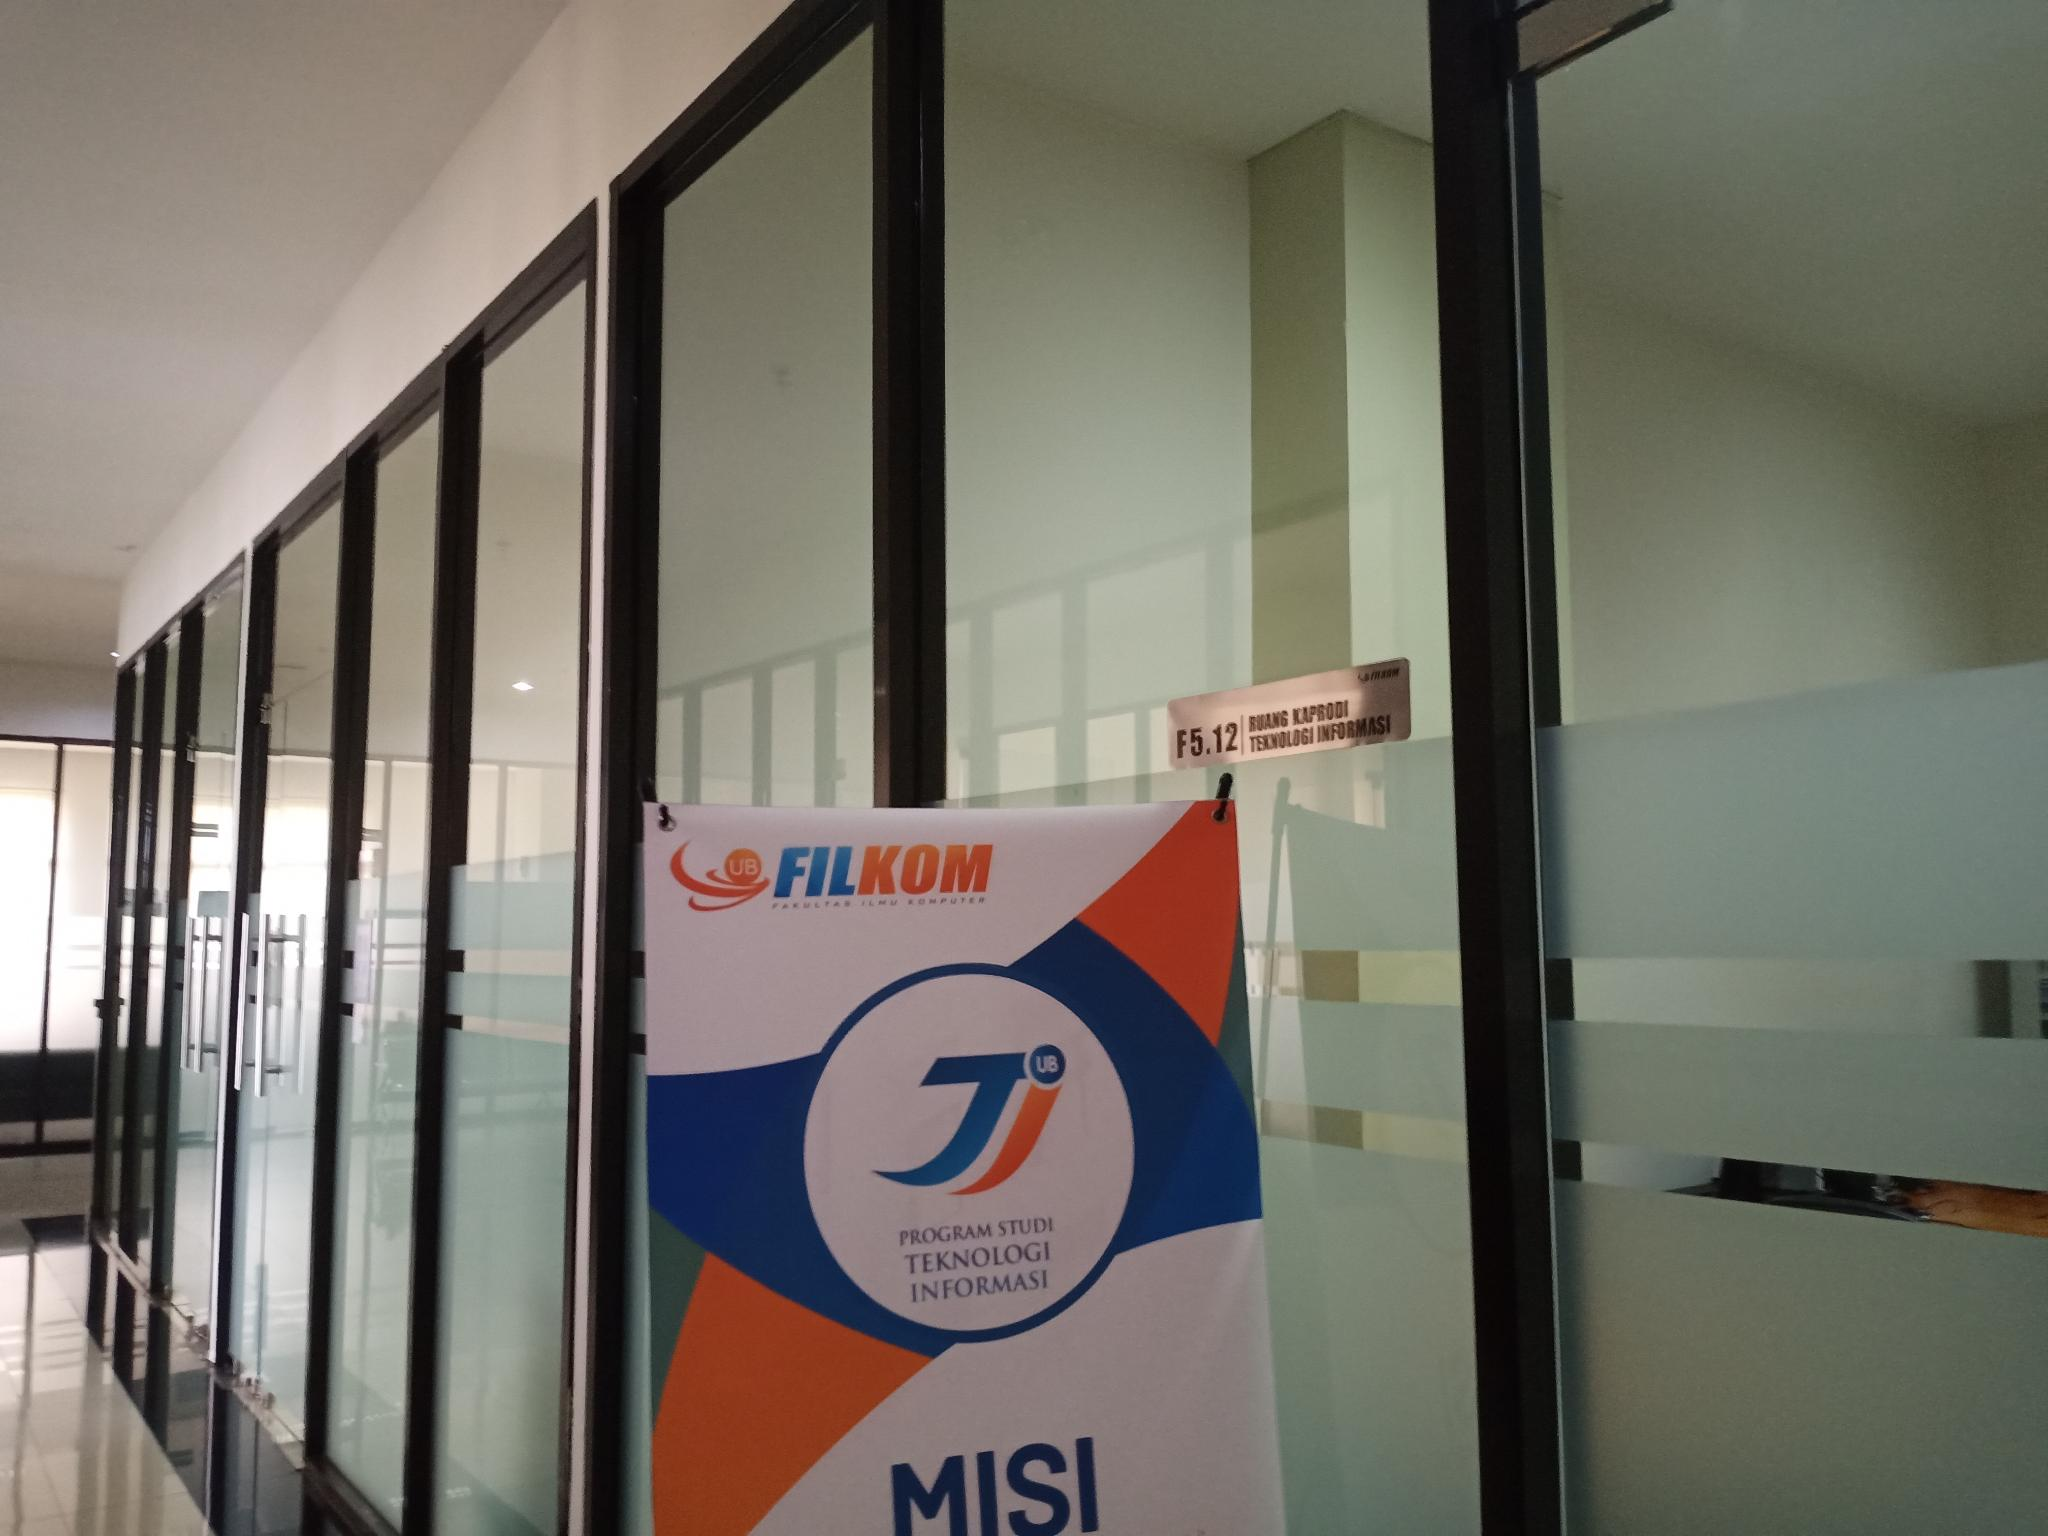plate: (1166, 657, 1413, 773)
